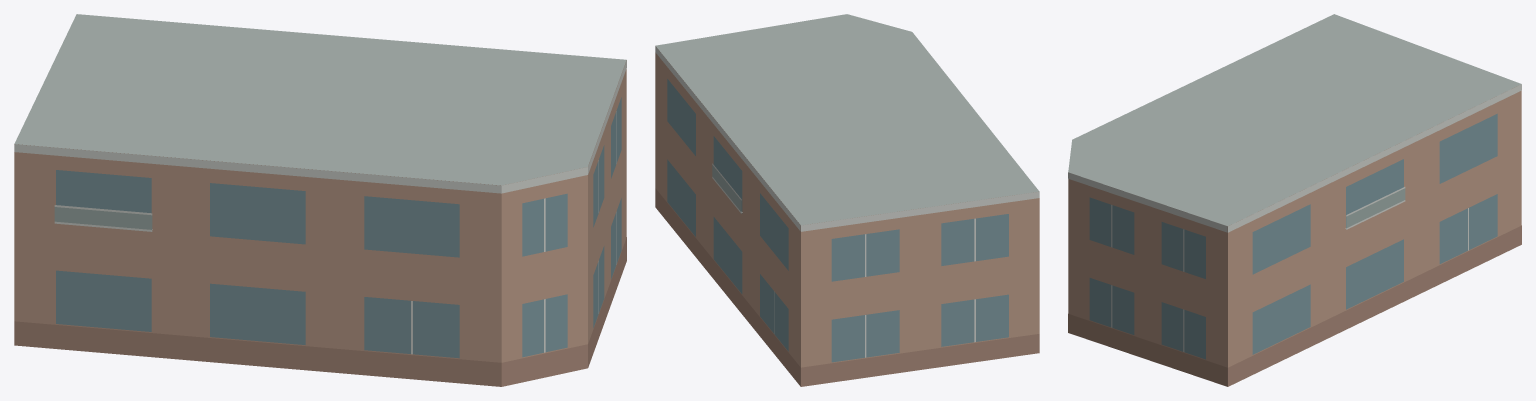
The model's file is survey-upis-32944845.glb.
The picture shows the model from 3 angles, left to right: view 1: azimuth 30°, elevation 25°; view 2: azimuth 150°, elevation 25°; view 3: azimuth 270°, elevation 25°; orthographic projection. The views are drawn at different scales.
Visible parts, largest first — view 1: survey-upis-32944845.tmp; view 2: survey-upis-32944845.tmp; view 3: survey-upis-32944845.tmp.
Part boxes in pixels (x1,y1,x2,y2): survey-upis-32944845.tmp: [14, 14, 626, 386]; survey-upis-32944845.tmp: [655, 14, 1039, 386]; survey-upis-32944845.tmp: [1068, 14, 1521, 386].
Bounding box in the file's own units: 17.31 × 6.1 × 15.63.
